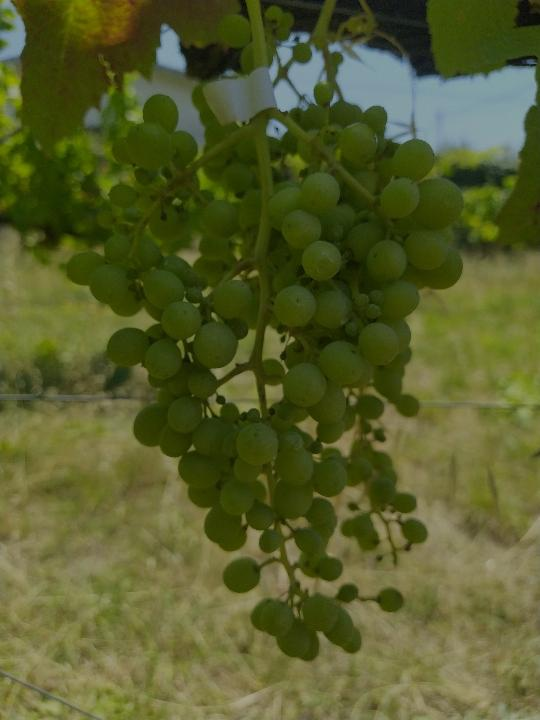grape: (59, 80, 468, 668)
